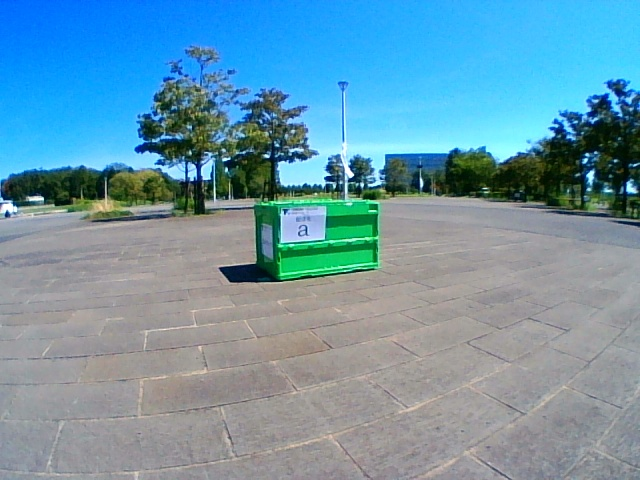green_box: (255, 200, 380, 280)
tag_a: (282, 208, 324, 239)
